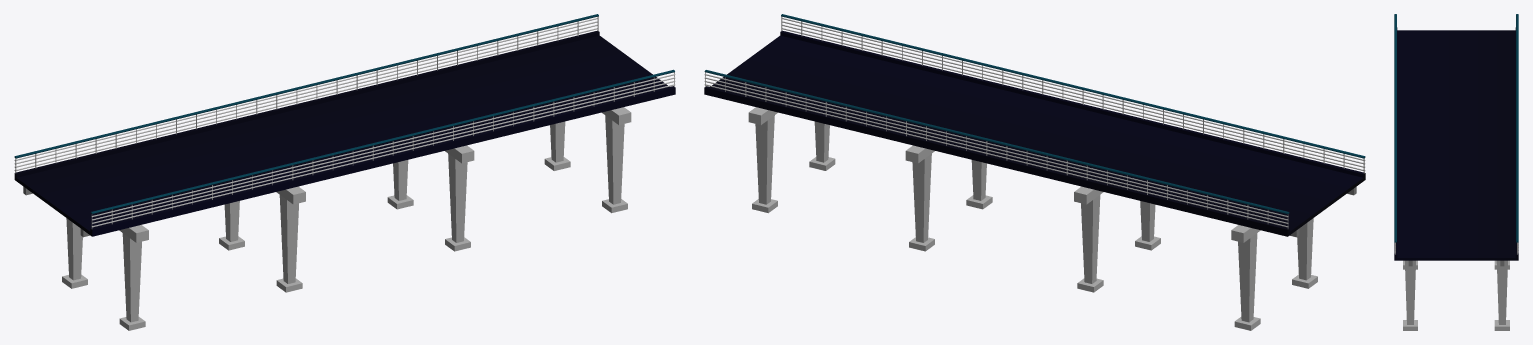
File: SM_Bld_Bridge.fbx
3 views of the same model, side by side, from view 1: azimuth 30°, elevation 25°; view 2: azimuth 150°, elevation 25°; view 3: azimuth 270°, elevation 25° (orthographic). The views are drawn at different scales.
Parts seen in each view (by area): view 1: SM_Bld_Bridge; view 2: SM_Bld_Bridge; view 3: SM_Bld_Bridge.
Boxes of the visible parts, left/top/right/bottom form: SM_Bld_Bridge: left=14, top=14, right=675, bottom=330; SM_Bld_Bridge: left=704, top=14, right=1365, bottom=330; SM_Bld_Bridge: left=1394, top=14, right=1518, bottom=330.
Size of the model in its own units: 52 by 11.26 by 12.02.
1 material, 1 textured.
